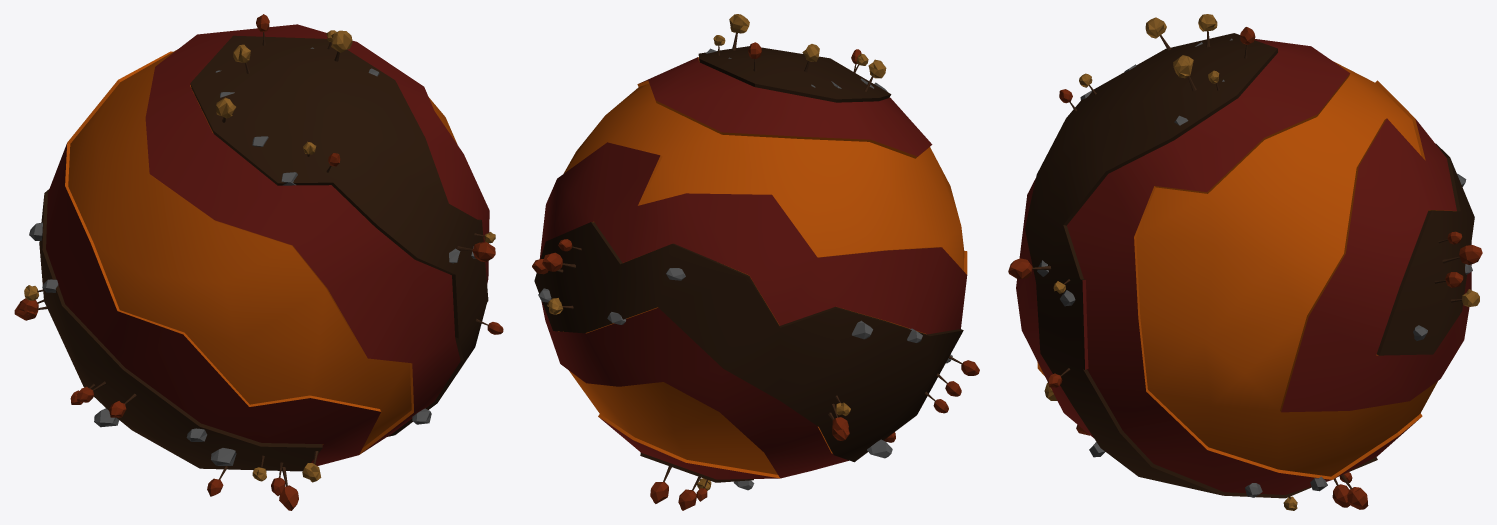
File: Planet C.obj
3 views of the same model, side by side, from view 1: azimuth 30°, elevation 25°; view 2: azimuth 150°, elevation 25°; view 3: azimuth 270°, elevation 25° (orthographic). The views are drawn at different scales.
Parts seen in each view (by area): view 1: Planet_C, MASH8_ReproMesh, MASH7_ReproMesh; view 2: Planet_C, MASH8_ReproMesh, MASH7_ReproMesh; view 3: Planet_C, MASH8_ReproMesh, MASH7_ReproMesh.
Part boxes in pixels (x1,y1,x2,y2): Planet_C: [39, 24, 489, 471]; MASH8_ReproMesh: [14, 14, 503, 510]; MASH7_ReproMesh: [29, 47, 475, 465]; Planet_C: [534, 46, 967, 482]; MASH8_ReproMesh: [532, 14, 979, 510]; MASH7_ReproMesh: [538, 48, 952, 490]; Planet_C: [1016, 33, 1474, 498]; MASH8_ReproMesh: [1008, 14, 1482, 510]; MASH7_ReproMesh: [1037, 38, 1472, 497].
Size of the model in its own units: 50.6 by 55.74 by 51.23.
